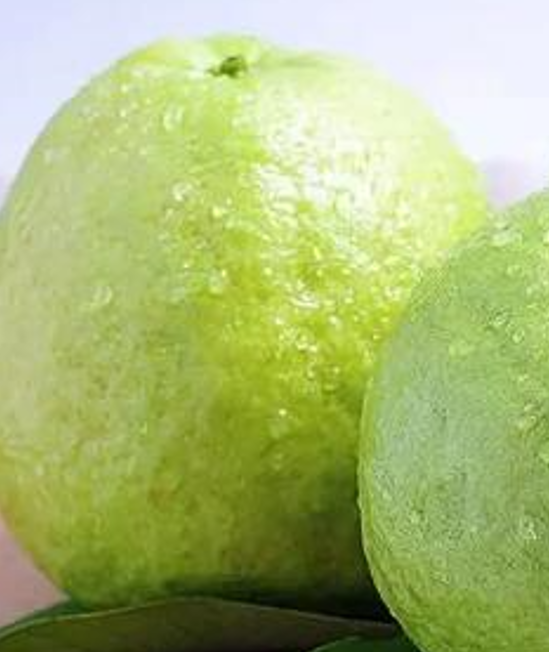guava_A: (1, 32, 498, 613)
